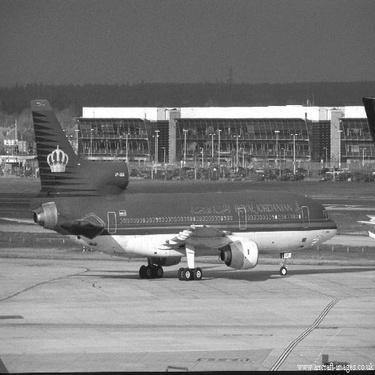airplane: (2, 84, 351, 280)
